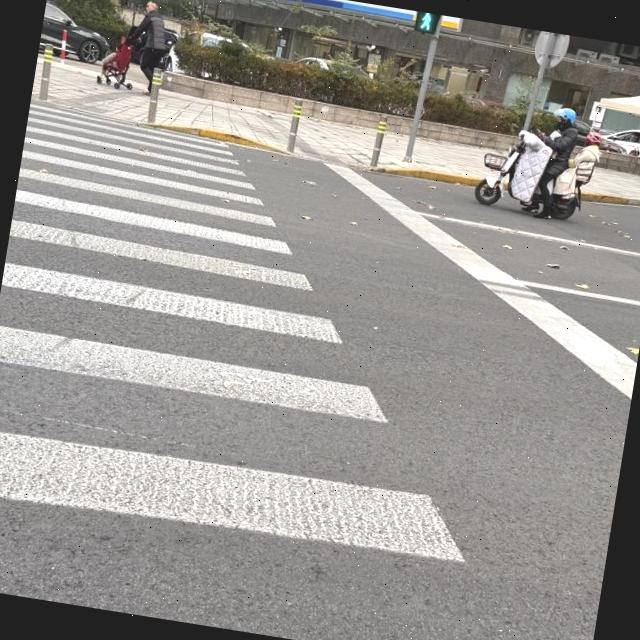curb: (162, 74, 296, 113), (153, 124, 280, 150), (418, 120, 519, 151), (369, 166, 479, 186), (302, 101, 379, 129), (599, 154, 640, 174), (583, 192, 640, 204), (386, 115, 414, 136)
